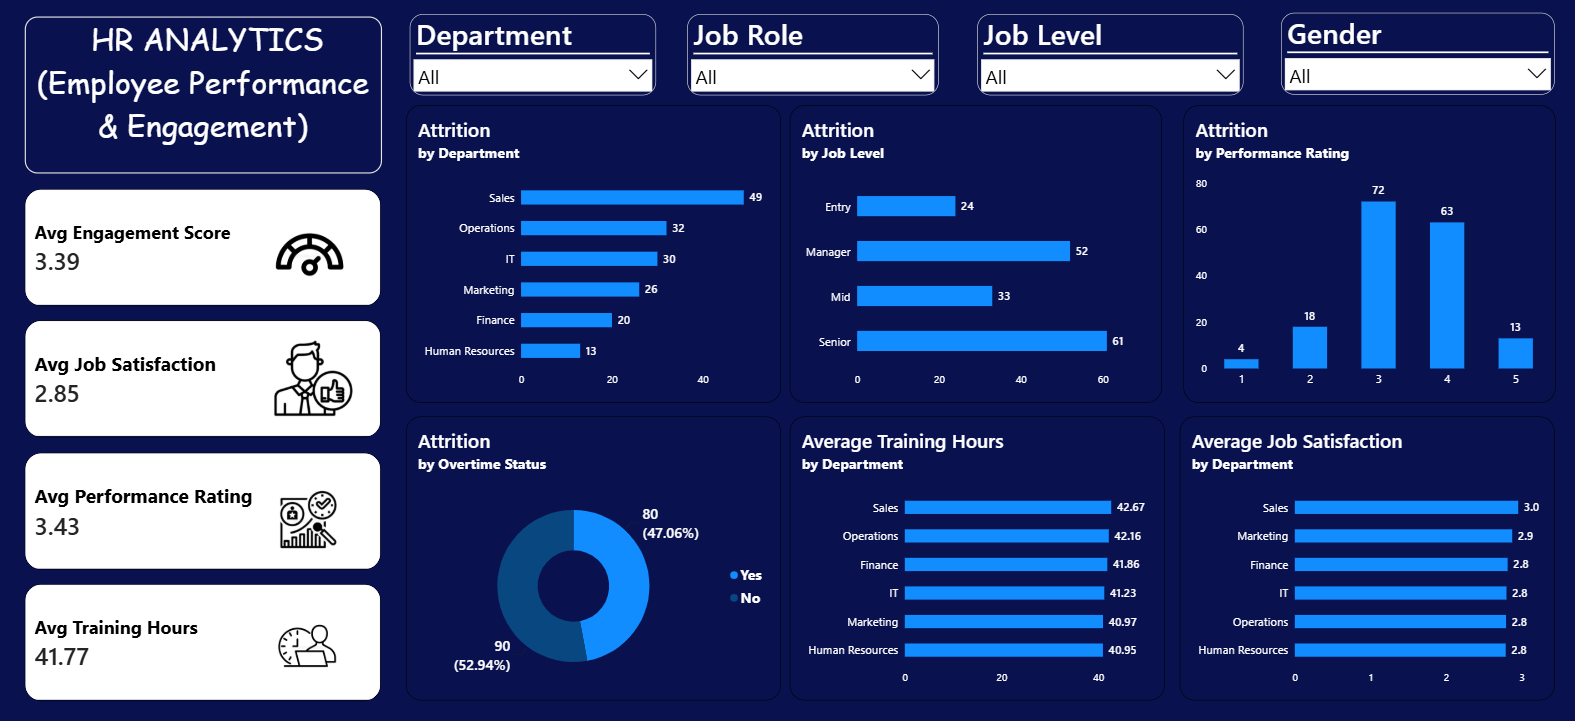

Layout of this report page (visuals, bound fields, positions):
{"tool":"powerbi","page":{"name":"Employee Performance & Engagement","canvas":[2234,1049],"ordinal":1},"visuals":[{"type":"textbox","box":[41.1,32.5,502.1,220.7],"z":0},{"type":"cardVisual","fields":{"Data":["Employee_Data.Avg Engagement Score"]},"box":[41.1,274.8,501.1,164.8],"z":0,"group":"g1"},{"type":"cardVisual","fields":{"Data":["Employee_Data.Avg Job Satisfaction"]},"box":[41.1,458.8,501.1,164.8],"z":0,"group":"g2"},{"type":"cardVisual","fields":{"Data":["Employee_Data.Avg Performance Rating"]},"box":[40.4,645.1,501.1,164.8],"z":0,"group":"g3"},{"type":"cardVisual","fields":{"Data":["Employee_Data.Avg Training Hours"]},"box":[41.1,828.9,501.1,164.8],"z":0,"group":"g4"},{"type":"slicer","fields":{"Values":["Department_Dim.Department"]},"box":[581.8,28.1,346.3,114.3],"z":1},{"type":"slicer","fields":{"Values":["Employee_Data.Job_Role"]},"box":[972,28.1,353.3,114.3],"z":2},{"type":"slicer","fields":{"Values":["Employee_Data.Job_Level"]},"box":[1379.8,28.1,374.4,114.3],"z":3},{"type":"group","id":"g1","title":"Group 1","box":[41.1,274.8,501.1,164.8],"z":4},{"type":"group","id":"g2","title":"Group 1","box":[41.1,458.8,501.1,164.8],"z":5},{"type":"group","id":"g3","title":"Group 1","box":[40.4,645.1,501.1,164.8],"z":6},{"type":"group","id":"g4","title":"Group 1","box":[41.1,828.9,501.1,164.8],"z":7},{"type":"clusteredBarChart","title":"Attrition","fields":{"Category":["Employee_Data.Department"],"Y":["Employee_Data.Attrition Count"]},"box":[577.3,156.9,527.1,418.4],"z":8},{"type":"clusteredBarChart","title":"Attrition","fields":{"Category":["Employee_Data.Job_Level"],"Y":["Employee_Data.Attrition Count"]},"box":[1117,156.9,522.9,418.4],"z":9},{"type":"clusteredColumnChart","title":"Attrition","fields":{"Category":["Employee_Data.Performance_Rating"],"Y":["Employee_Data.Attrition Count"]},"box":[1669.2,156.9,522.9,418.4],"z":10},{"type":"donutChart","title":"Attrition","fields":{"Category":["Employee_Data.Overtime"],"Y":["Employee_Data.Attrition Count"]},"box":[577.3,594.1,527.1,399.5],"z":11},{"type":"clusteredBarChart","title":"Average Training Hours","fields":{"Category":["Employee_Data.Department"],"Y":["Employee_Data.Avg Training Hours"]},"box":[1117,594.1,527.1,399.5],"z":12},{"type":"clusteredBarChart","title":"Average Job Satisfaction","fields":{"Category":["Employee_Data.Department"],"Y":["Employee_Data.Avg Job Satisfaction"]},"box":[1665,594.1,527.1,399.5],"z":13},{"type":"slicer","fields":{"Values":["Employee_Data.Gender"]},"box":[1807.3,27.2,384.9,115],"z":14},{"type":"image","box":[355.5,308.5,172.3,117.8],"z":3000,"group":"g1"},{"type":"image","box":[360.8,482,172.3,117.8],"z":3000,"group":"g2"},{"type":"image","box":[352.5,680.1,172.3,117.8],"z":3000,"group":"g3"},{"type":"image","box":[352,857.3,172.3,117.8],"z":3000,"group":"g4"}]}

Visuals, with their boxes in screenshot pixels (x1, y1, x2, y2), scaled from the page's 2234x1049 canvas onto the 1575x721 screenshot:
textbox: bbox=[29, 22, 383, 174]
cardVisual - Employee_Data.Avg Engagement Score: bbox=[29, 189, 382, 302]
cardVisual - Employee_Data.Avg Job Satisfaction: bbox=[29, 315, 382, 429]
cardVisual - Employee_Data.Avg Performance Rating: bbox=[28, 443, 382, 557]
cardVisual - Employee_Data.Avg Training Hours: bbox=[29, 570, 382, 683]
slicer - Department_Dim.Department: bbox=[410, 19, 654, 98]
slicer - Employee_Data.Job_Role: bbox=[685, 19, 934, 98]
slicer - Employee_Data.Job_Level: bbox=[973, 19, 1237, 98]
"Group 1" group: bbox=[29, 189, 382, 302]
"Group 1" group: bbox=[29, 315, 382, 429]
"Group 1" group: bbox=[28, 443, 382, 557]
"Group 1" group: bbox=[29, 570, 382, 683]
"Attrition" clusteredBarChart: bbox=[407, 108, 779, 395]
"Attrition" clusteredBarChart: bbox=[788, 108, 1156, 395]
"Attrition" clusteredColumnChart: bbox=[1177, 108, 1545, 395]
"Attrition" donutChart: bbox=[407, 408, 779, 683]
"Average Training Hours" clusteredBarChart: bbox=[788, 408, 1159, 683]
"Average Job Satisfaction" clusteredBarChart: bbox=[1174, 408, 1545, 683]
slicer - Employee_Data.Gender: bbox=[1274, 19, 1546, 98]
image: bbox=[251, 212, 372, 293]
image: bbox=[254, 331, 376, 412]
image: bbox=[249, 467, 370, 548]
image: bbox=[248, 589, 370, 670]
